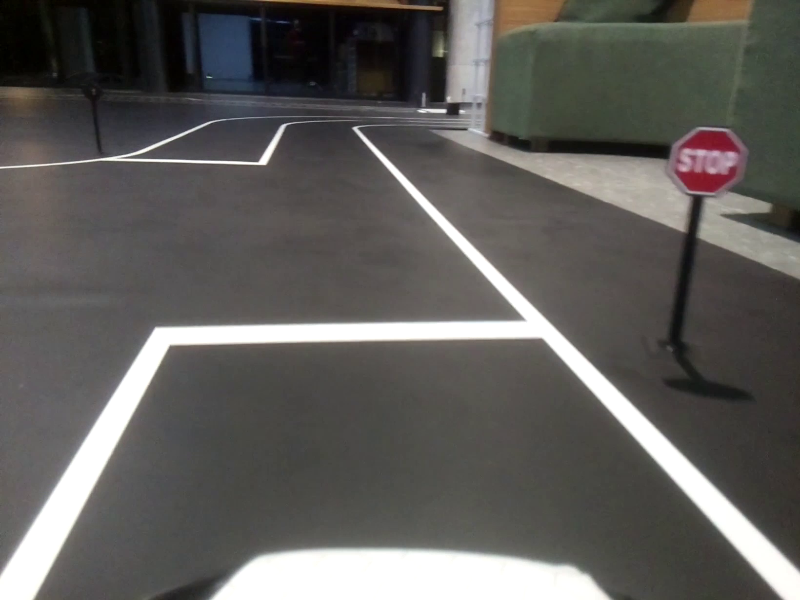stop: (671, 127, 740, 196)
